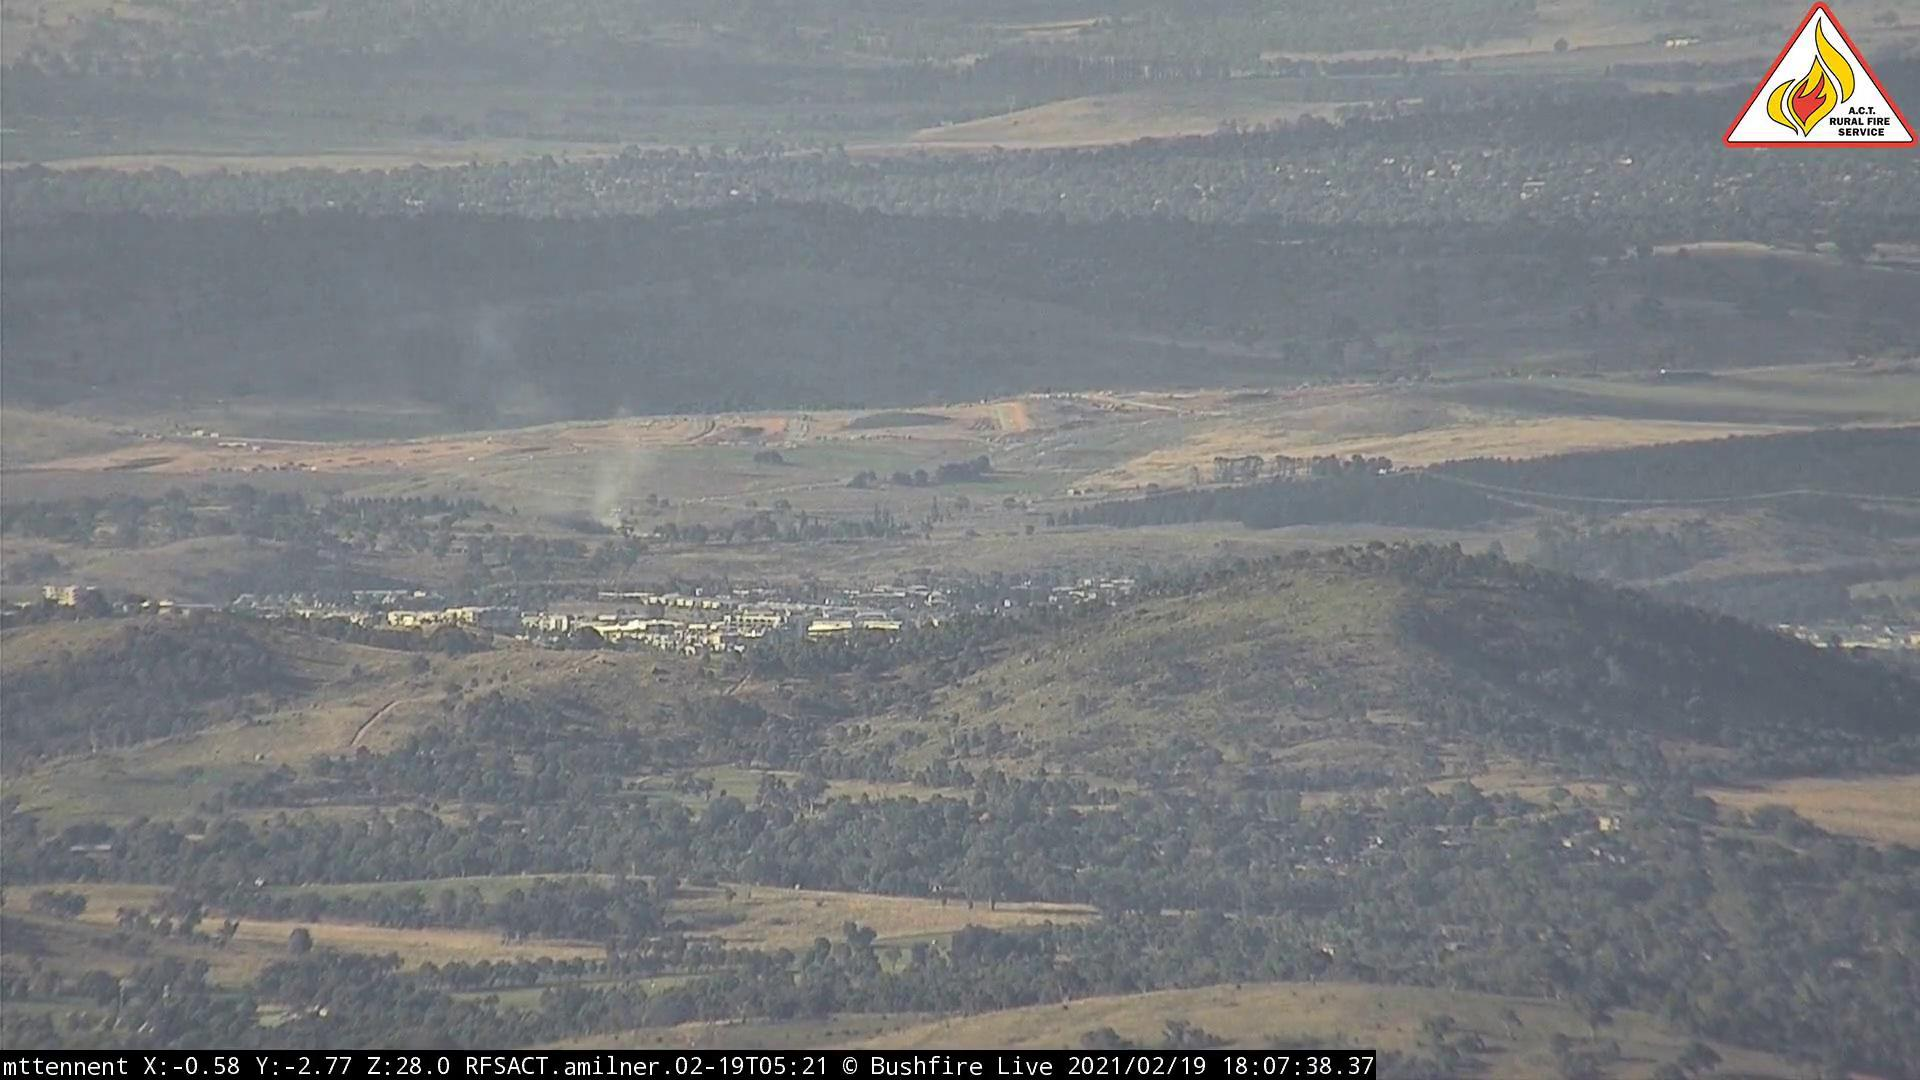Smoke: (560, 448, 647, 522)
